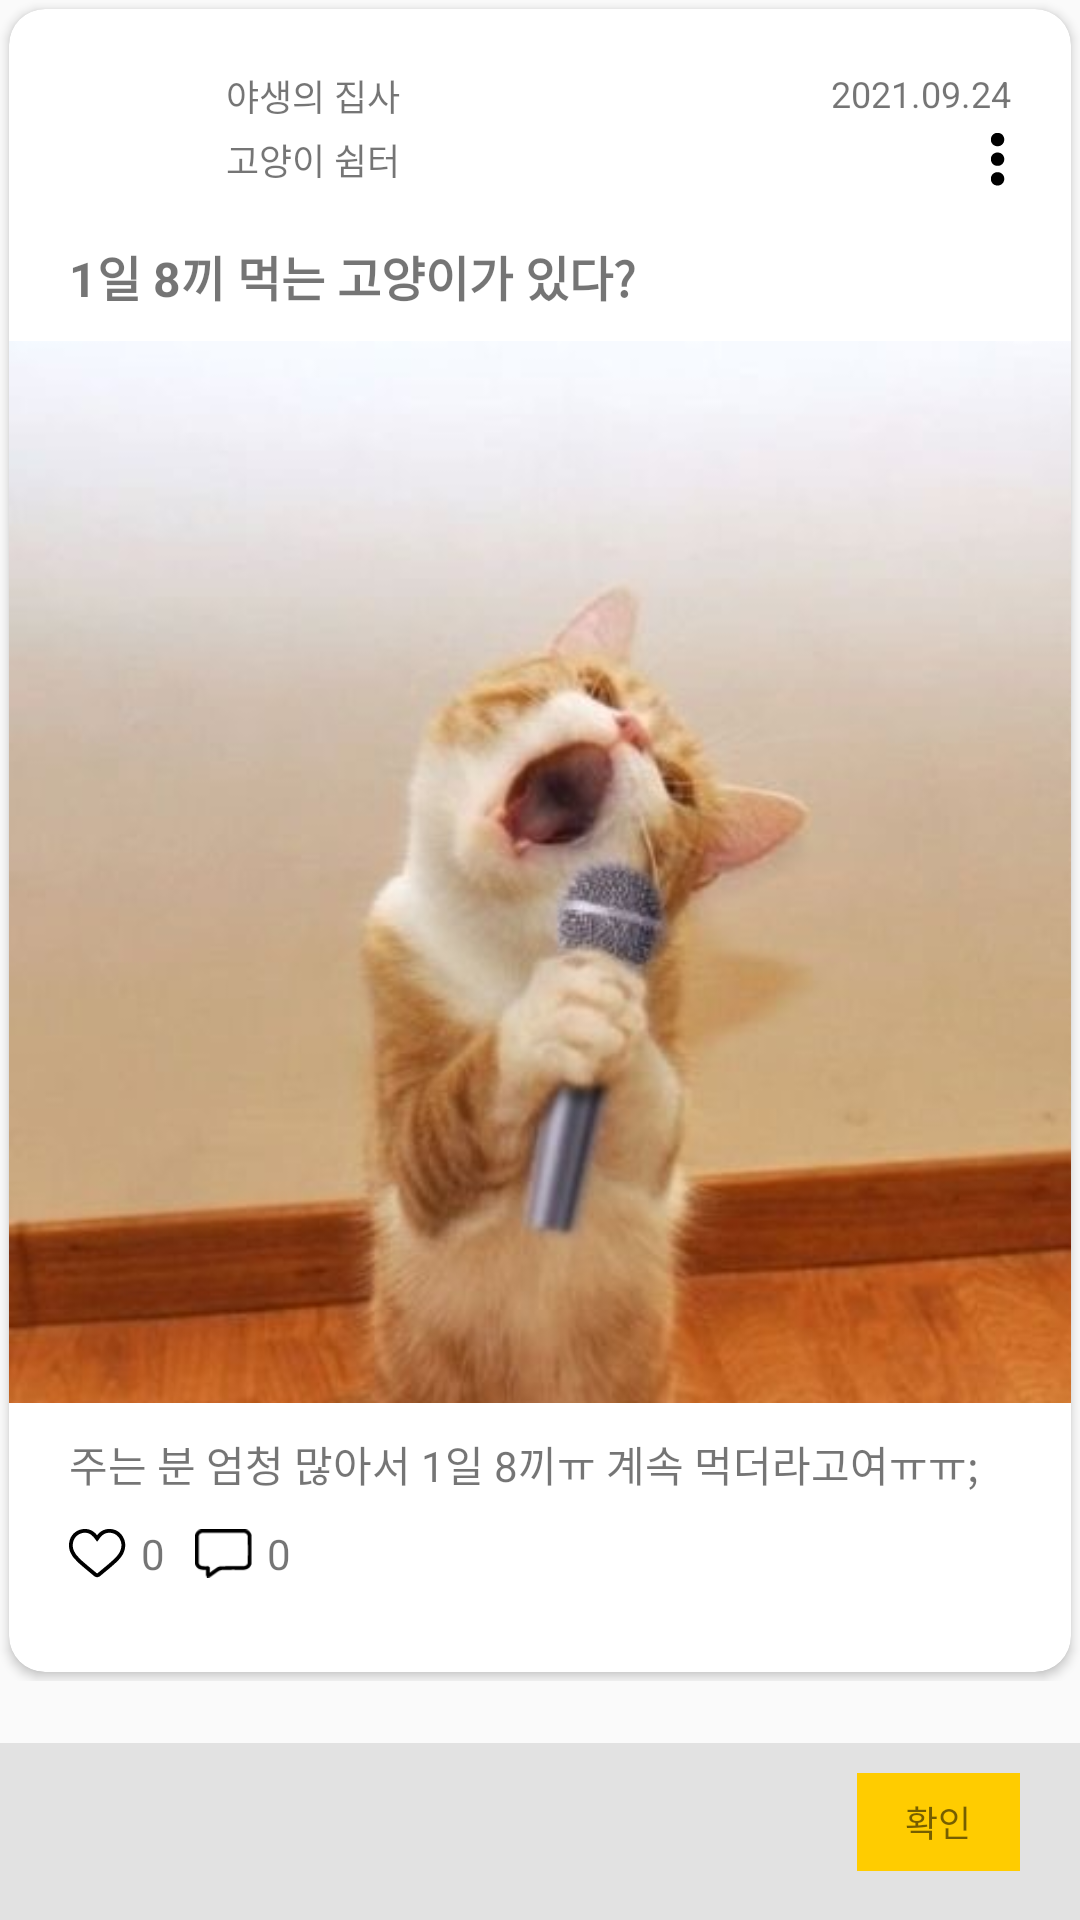

Icon bounding boxes for this 1080px x 1920px phone screenshot, format (x1,y1,x2,y2):
dotldpi: (991,133,1005,186)
likeldpi: (69,1529,126,1578)
replyldpi: (195,1529,252,1578)
